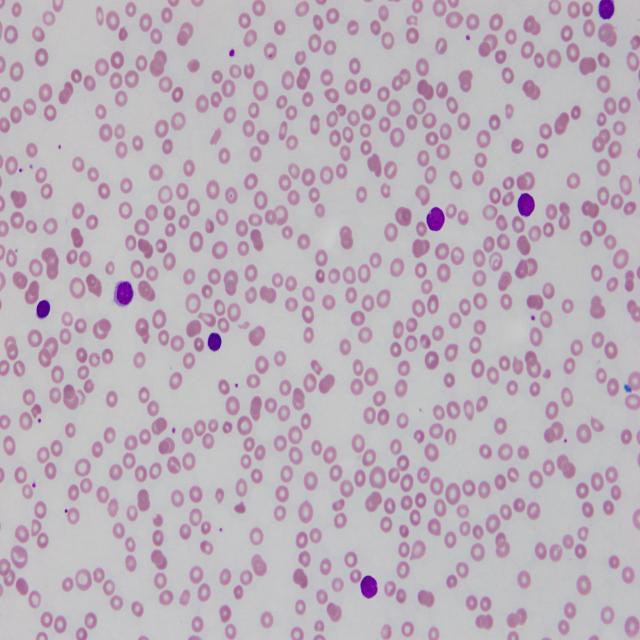cell: (114, 282, 134, 306), (426, 207, 445, 232), (360, 575, 378, 598), (518, 193, 535, 217), (599, 0, 615, 20), (36, 300, 50, 318), (208, 333, 221, 352)
